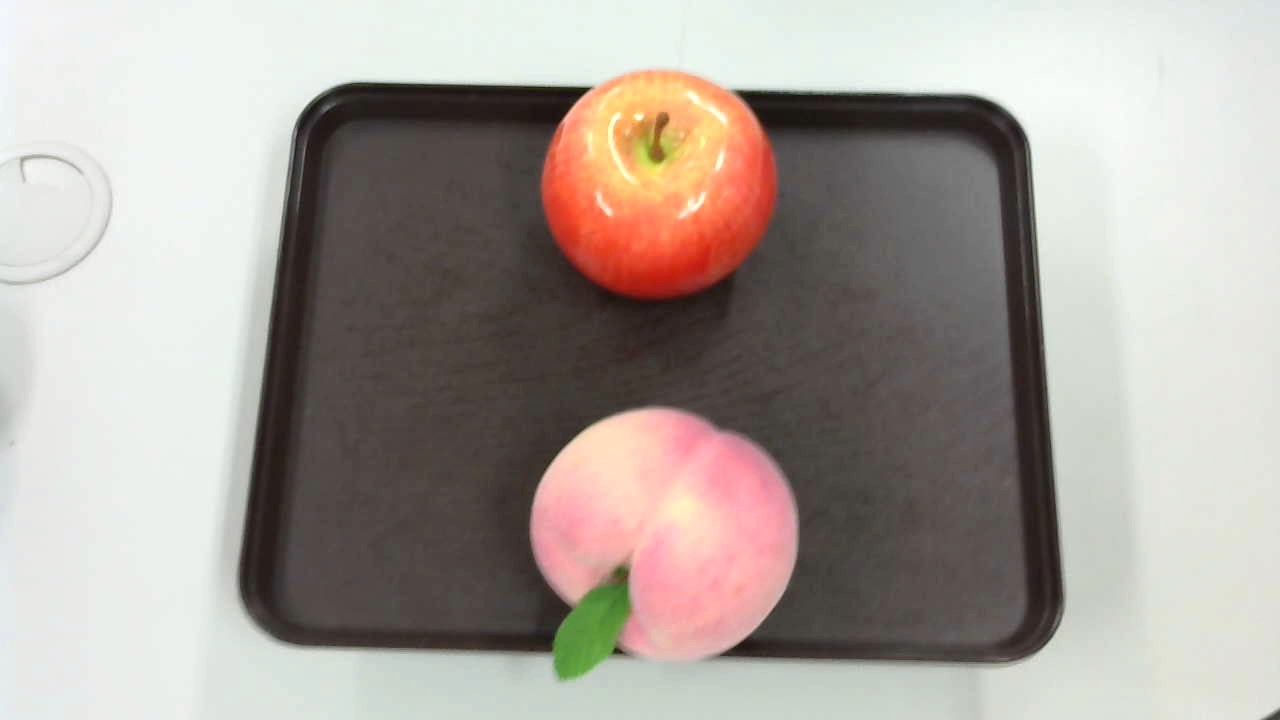peach: (521, 403, 799, 683)
red apple: (531, 68, 780, 298)
